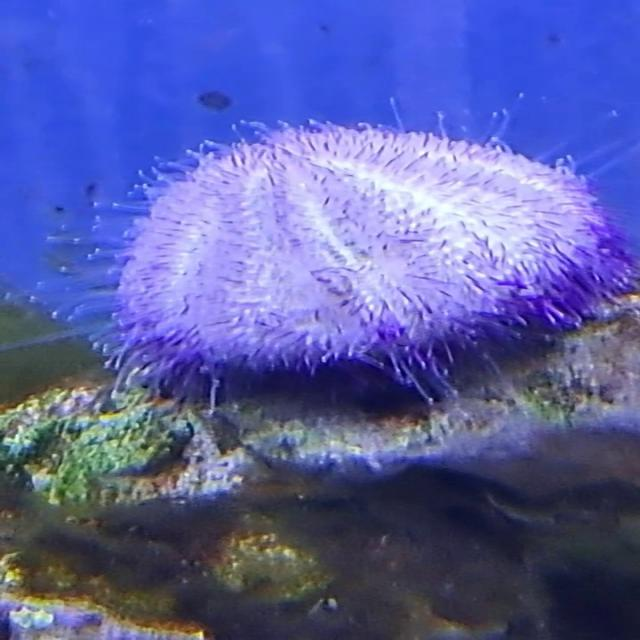Deniz Kestanesi: (61, 109, 636, 388)
